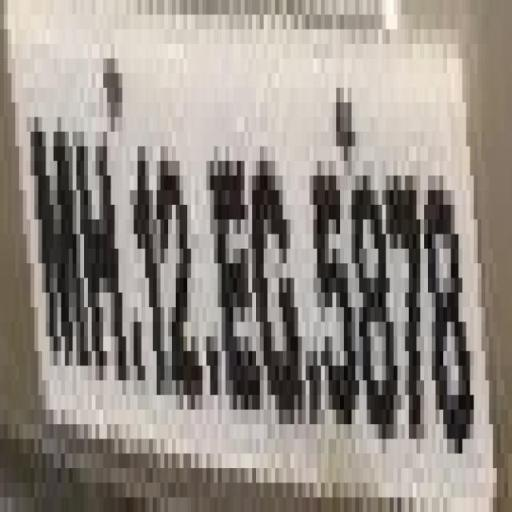number plate: (11, 14, 482, 468)
